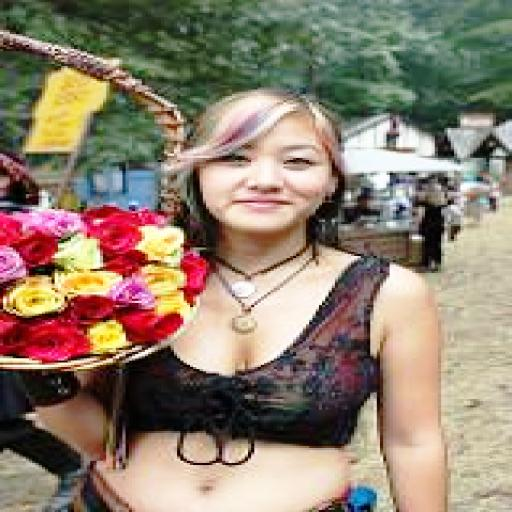rose: (13, 320, 96, 363), (116, 308, 187, 342), (135, 256, 184, 297), (93, 215, 142, 254), (55, 271, 122, 294), (13, 234, 61, 264), (142, 226, 186, 258), (74, 294, 116, 320)
